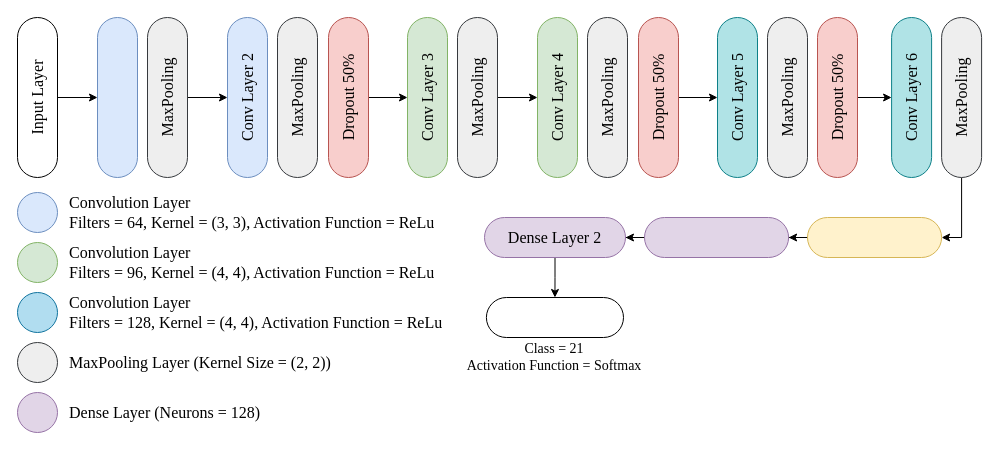
This 1000x450 diagram has some shape labels left out. Each missing label, with the centre of its shape:
Conv Layer 1: (117,97)
Dense Layer 1: (716,237)
Flatten Layer: (874,237)
Output Layer: (554,317)
